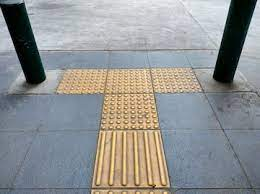guide_blocks: (90, 94, 169, 194), (59, 67, 203, 93)
